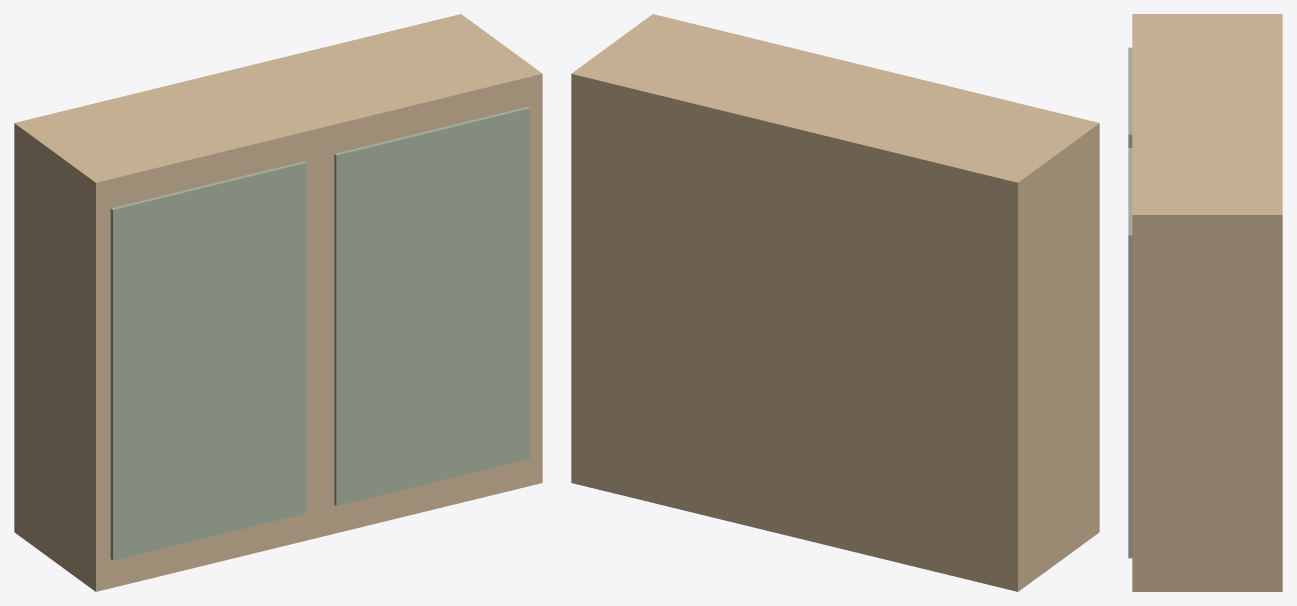
Rendered from wall-cabinet.glb.
3 renders of one model, left to right at view 1: azimuth 30°, elevation 25°; view 2: azimuth 150°, elevation 25°; view 3: azimuth 270°, elevation 25°, orthographic. The views are drawn at different scales.
Parts seen in each view (by area): view 1: root; view 2: root; view 3: root.
Boxes of the visible parts, box(x1,y1,x2,y2) form: root: box(14, 14, 542, 591); root: box(571, 14, 1099, 591); root: box(1128, 14, 1282, 591).
Bounding box in the file's own units: 1.2 × 1.05 × 0.39.
